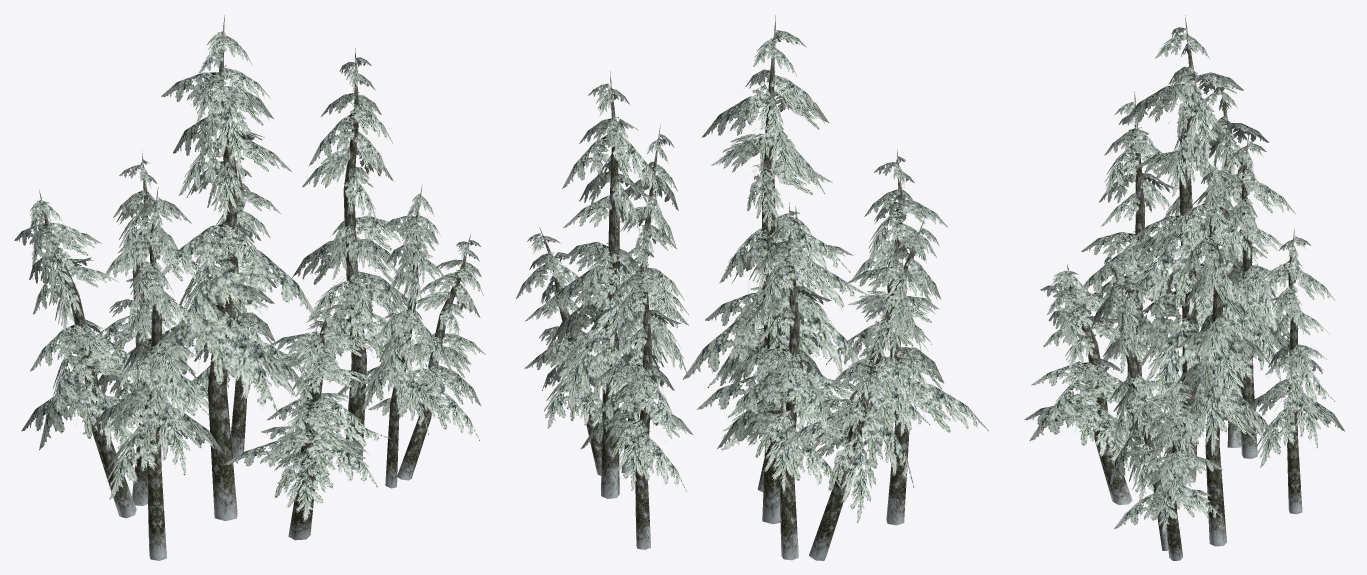
Rendered from S_Tree_White016.FBX.
3 views of the same model, side by side, from view 1: azimuth 30°, elevation 25°; view 2: azimuth 150°, elevation 25°; view 3: azimuth 270°, elevation 25° (orthographic). The views are drawn at different scales.
Parts seen in each view (by area): view 1: S_Tree_White016; view 2: S_Tree_White016; view 3: S_Tree_White016.
Part boxes in pixels (left/top/right/bottom): S_Tree_White016: left=14, top=15, right=485, bottom=560; S_Tree_White016: left=516, top=15, right=988, bottom=560; S_Tree_White016: left=1024, top=15, right=1344, bottom=560.
Bounding box in the file's own units: 1327 × 961 × 1483.
